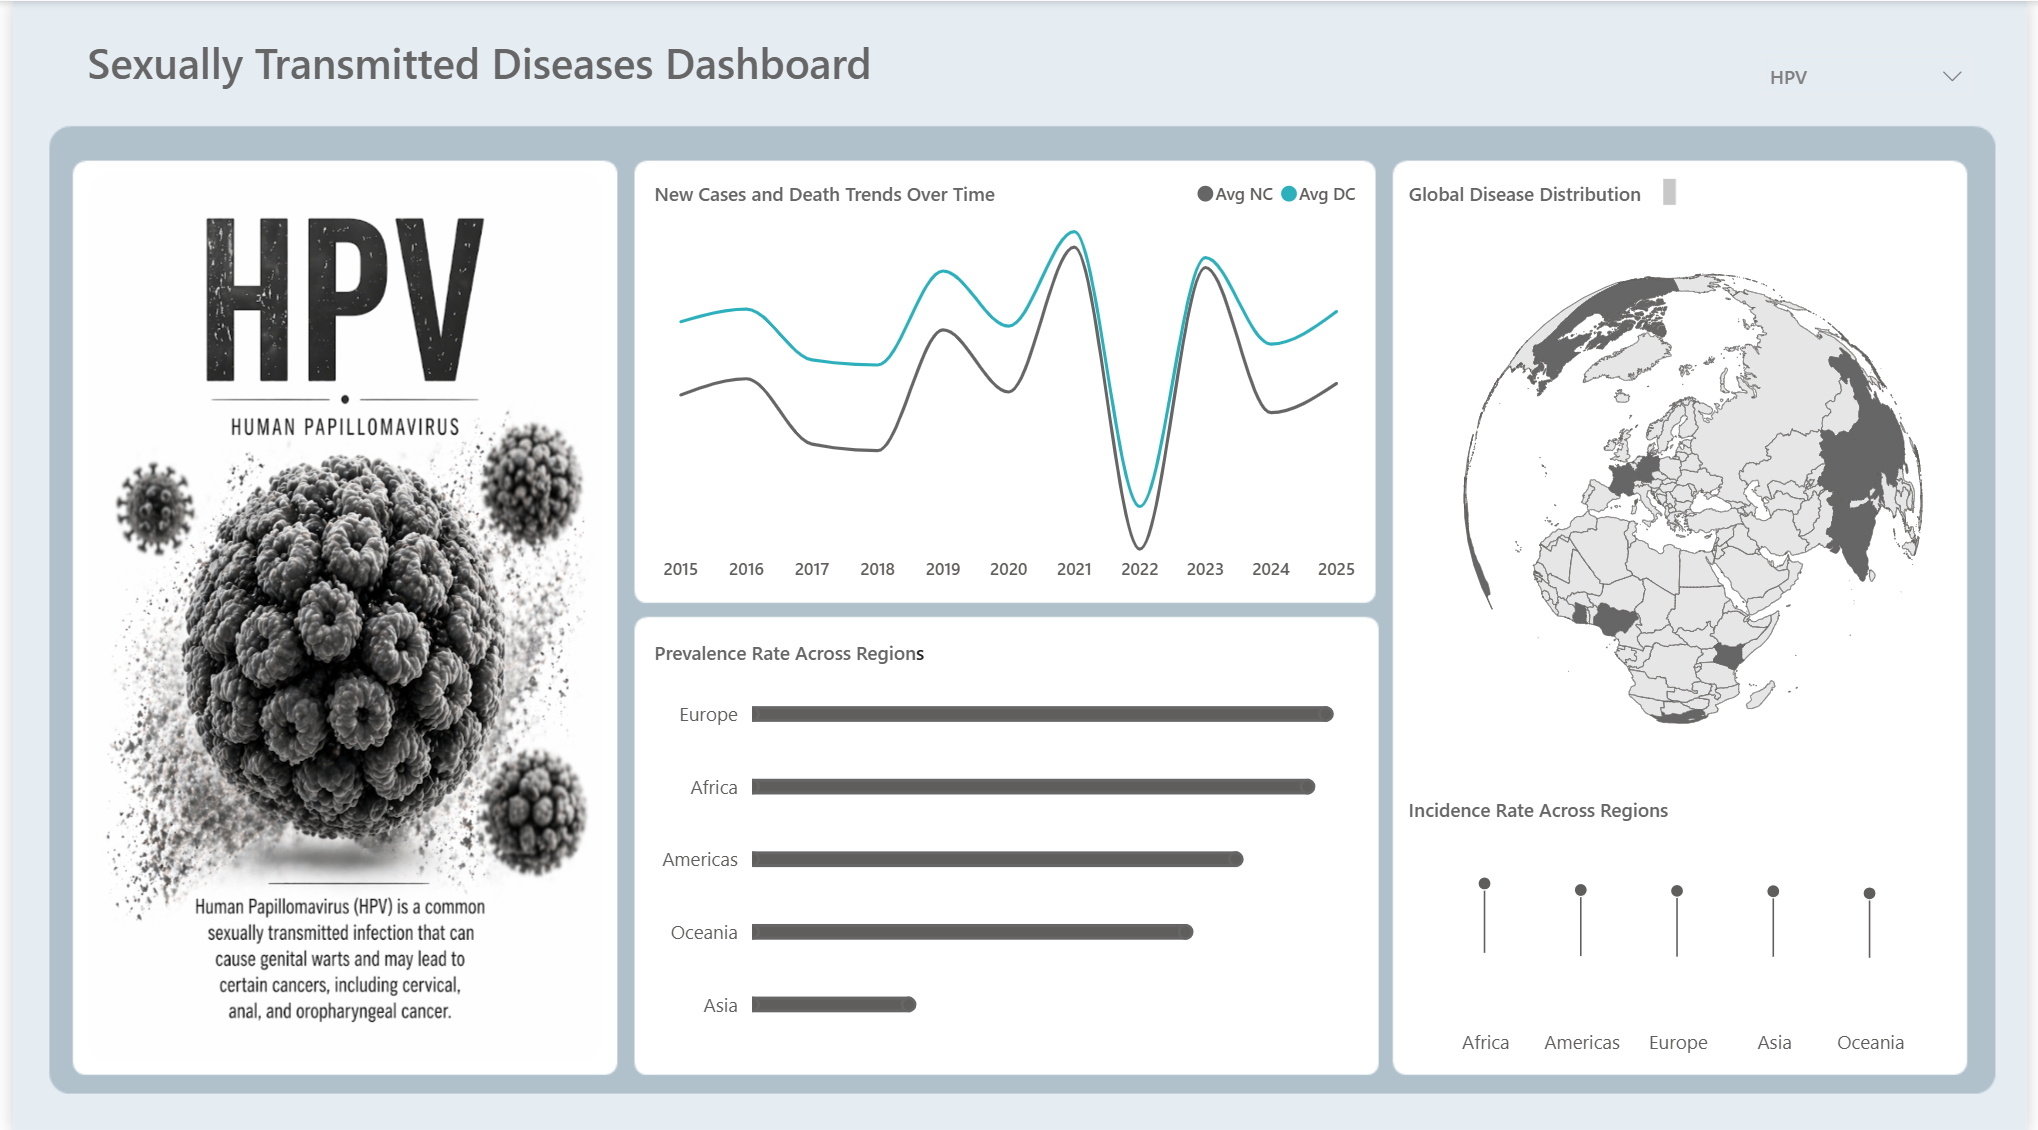

This screenshot's page, from the dashboard's own definition file:
{"tool":"powerbi","page":{"name":"Page 1","canvas":[1280,720],"ordinal":0},"visuals":[{"type":"slicer","fields":{"Values":["Health Image Dataset.Disease"]},"box":[1101.5,24.6,153,49.8],"z":0},{"type":"imageDB603108E3FF4EBFB8047F5653368E8C","fields":{"imageUrl":["Health Image Dataset.Image URL"]},"box":[41.8,103.8,337.3,576.2],"z":1000},{"type":"lineChart","fields":{"Category":["Health Dataset.Year"],"Y":["Avg(Health Dataset.New_Cases)"],"Y2":["Avg(Health Dataset.Deaths)"]},"box":[402.4,103.8,460.1,275.8],"z":2000},{"type":"textbox","box":[402.4,108.1,245.1,35],"z":3000},{"type":"clusteredBarChart","fields":{"Category":["Health Dataset.Region"],"Y":["Avg(Health Dataset.Prevalence_Rate)"]},"box":[402.4,403.6,460.1,276.5],"z":4000},{"type":"textbox","box":[402.4,399.3,184.3,31.3],"z":5000},{"type":"textbox","box":[41.8,30.1,689.9,49.8],"z":6000},{"type":"shapeMap","fields":{"Category":["Health Dataset.Country"]},"box":[900.6,125.9,333.6,380.9],"z":7000},{"type":"textbox","box":[882.2,108.1,180,27],"z":8000},{"type":"clusteredColumnChart","fields":{"Category":["Health Dataset.Region"],"Y":["Avg(Health Dataset.Incidence_Rate)"]},"box":[882.2,541.8,352.6,138.2],"z":9000},{"type":"textbox","box":[882.2,499.5,299.8,35],"z":10000}]}

Visuals, with their boxes in screenshot pixels (x1, y1, x2, y2), scaled from the page's 1280x720 canvas onto the 2038x1130 screenshot:
slicer - Health Image Dataset.Disease: locate(1754, 39, 1997, 117)
imageDB603108E3FF4EBFB8047F5653368E8C - Health Image Dataset.Image URL: locate(67, 163, 604, 1067)
lineChart - Health Dataset.Year x Avg(Health Dataset.New_Cases): locate(641, 163, 1373, 596)
textbox: locate(641, 170, 1031, 225)
clusteredBarChart - Health Dataset.Region x Avg(Health Dataset.Prevalence_Rate): locate(641, 633, 1373, 1067)
textbox: locate(641, 627, 934, 676)
textbox: locate(67, 47, 1165, 125)
shapeMap - Health Dataset.Country: locate(1434, 198, 1965, 795)
textbox: locate(1405, 170, 1691, 212)
clusteredColumnChart - Health Dataset.Region x Avg(Health Dataset.Incidence_Rate): locate(1405, 850, 1966, 1067)
textbox: locate(1405, 784, 1882, 839)
